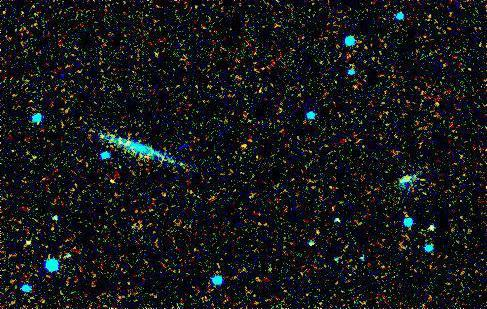star: (96, 167, 126, 197)
